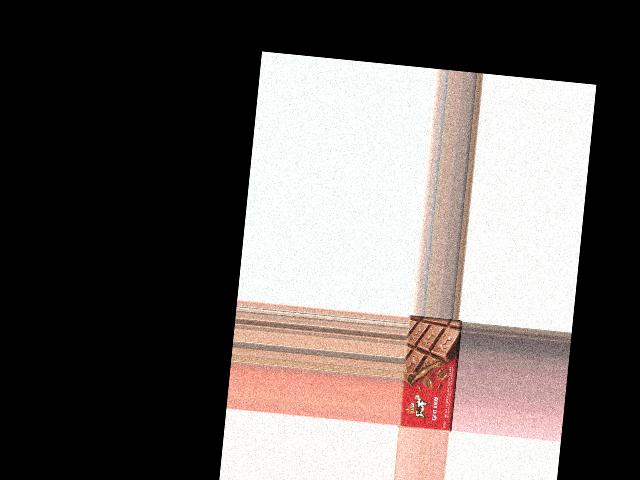chocolate: (397, 316, 461, 432)
